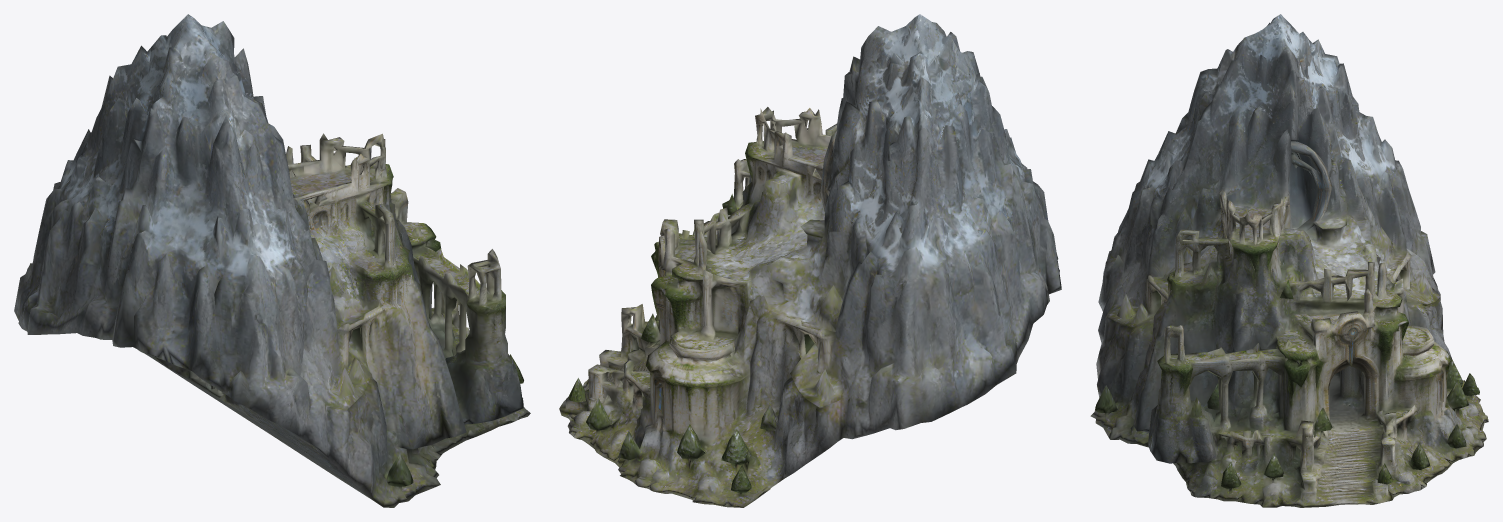
The model's file is env_peak.glb.
The picture shows the model from 3 angles, left to right: view 1: azimuth 30°, elevation 25°; view 2: azimuth 150°, elevation 25°; view 3: azimuth 270°, elevation 25°; orthographic projection. The views are drawn at different scales.
Visible parts, largest first — view 1: tripo_node_260a6239-9531-4269-ba2c-4ea8fc4d249a; view 2: tripo_node_260a6239-9531-4269-ba2c-4ea8fc4d249a; view 3: tripo_node_260a6239-9531-4269-ba2c-4ea8fc4d249a.
Part boxes in pixels (x1=…): tripo_node_260a6239-9531-4269-ba2c-4ea8fc4d249a: x1=14, y1=14, x2=530, y2=507; tripo_node_260a6239-9531-4269-ba2c-4ea8fc4d249a: x1=559, y1=14, x2=1061, y2=507; tripo_node_260a6239-9531-4269-ba2c-4ea8fc4d249a: x1=1090, y1=14, x2=1488, y2=507.
Size of the model in its own units: 1 by 0.9275 by 0.9198.
Materials: 1 (1 with a texture image).
